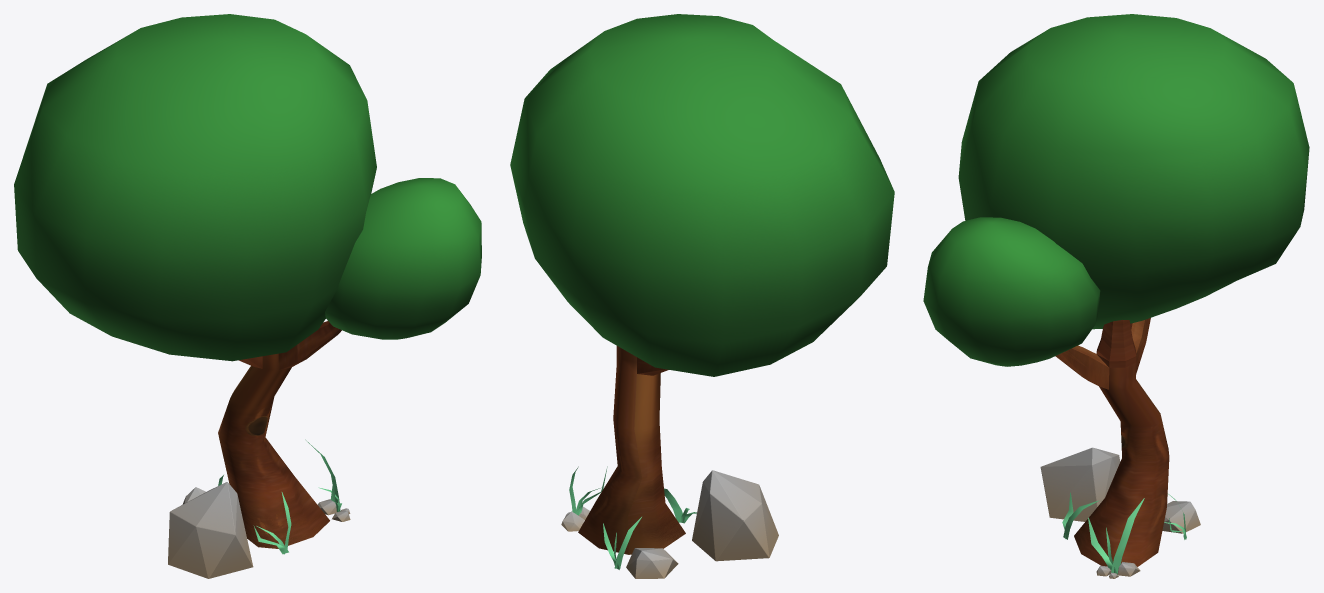
The model's file is Large tree collection 2.fbx.
The picture shows the model from 3 angles, left to right: view 1: azimuth 30°, elevation 25°; view 2: azimuth 150°, elevation 25°; view 3: azimuth 270°, elevation 25°; orthographic projection. The views are drawn at different scales.
Visible parts, largest first — view 1: Large tre (textured)001; view 2: Large tre (textured)001; view 3: Large tre (textured)001.
Boxes of the visible parts, left/top/right/bottom form: Large tre (textured)001: left=14, top=14, right=481, bottom=578; Large tre (textured)001: left=510, top=14, right=894, bottom=578; Large tre (textured)001: left=923, top=14, right=1309, bottom=578.
Size of the model in its own units: 34.5 by 44.74 by 32.13.
